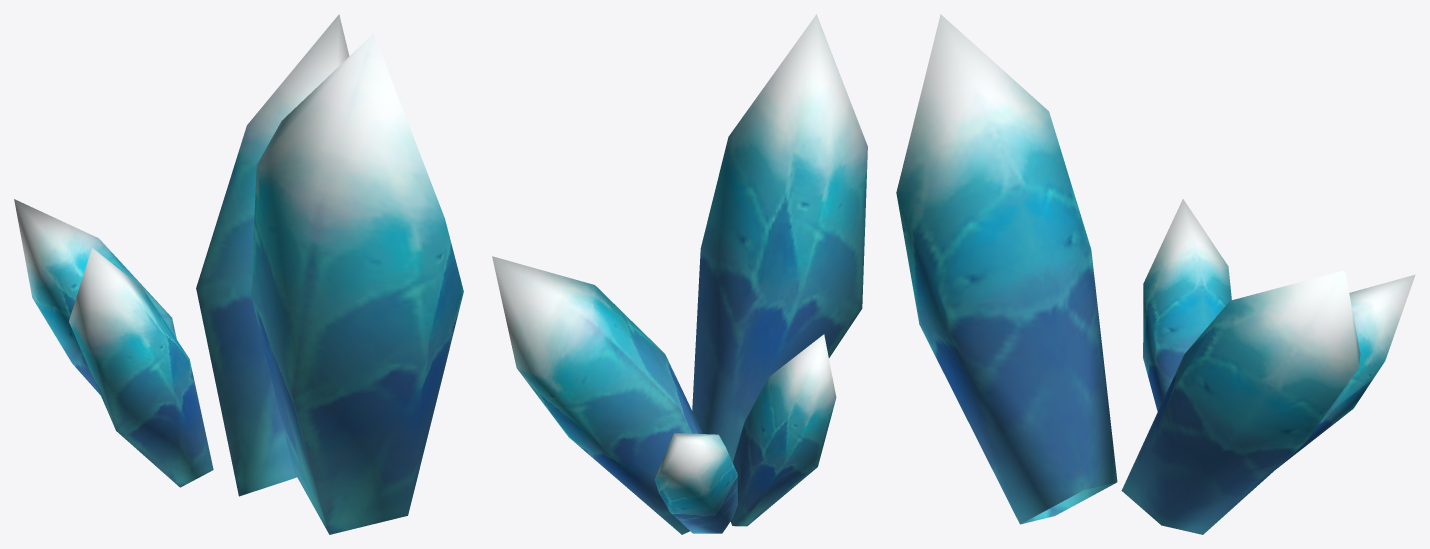
The model's file is SM_stoneB_15.fbx.
The picture shows the model from 3 angles, left to right: view 1: azimuth 30°, elevation 25°; view 2: azimuth 150°, elevation 25°; view 3: azimuth 270°, elevation 25°; orthographic projection. The views are drawn at different scales.
Visible parts, largest first — view 1: SM_stoneB_15; view 2: SM_stoneB_15; view 3: SM_stoneB_15.
Part boxes in pixels (left/top/right/bottom): SM_stoneB_15: left=14, top=14, right=463, bottom=534; SM_stoneB_15: left=492, top=14, right=867, bottom=534; SM_stoneB_15: left=896, top=14, right=1415, bottom=534.
Bounding box in the file's own units: 0.6166 × 0.9724 × 0.8985.
